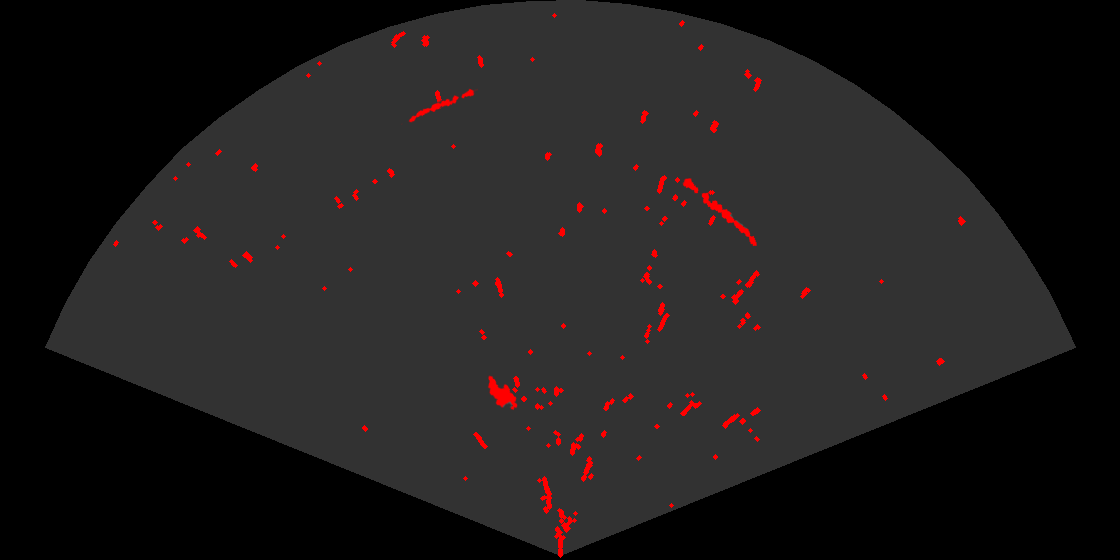AUV: (486, 374, 519, 412)
chain: (681, 177, 758, 248), (401, 87, 478, 126)
